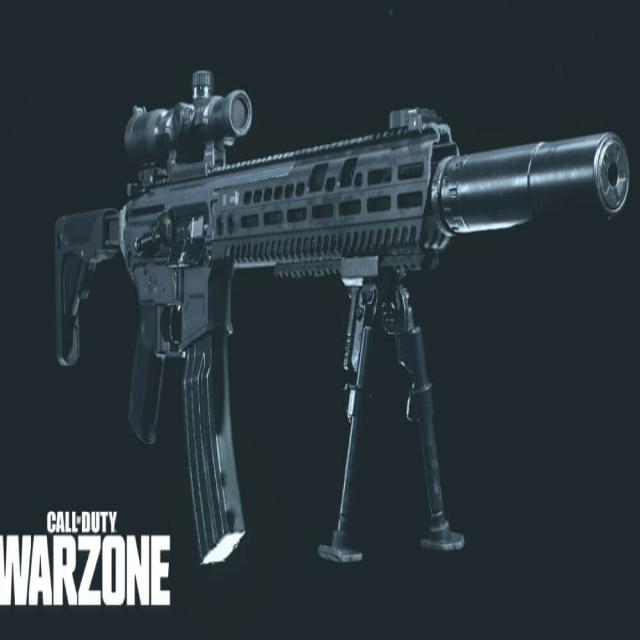Rifle: (54, 70, 632, 567)
